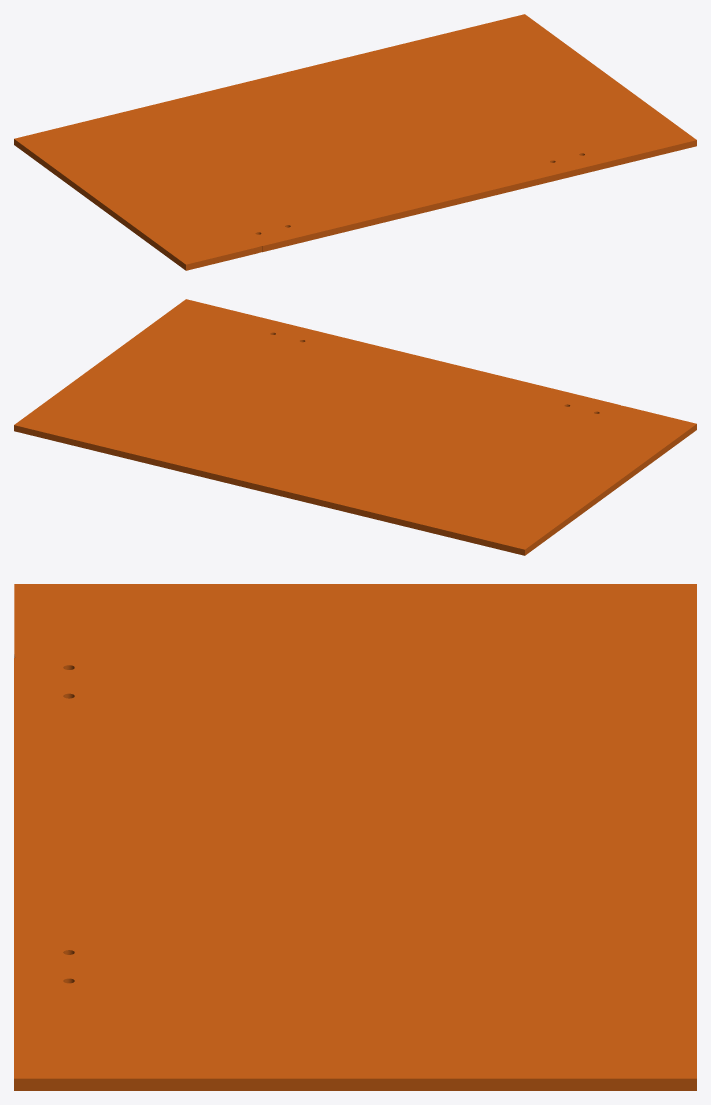
The model's file is NyxBoxV1_NyxRoyalLitterBot v106_FrontAccessPanel_1_LeftDoor_1_Body1.obj.
The picture shows the model from 3 angles, top to bottom: view 1: azimuth 30°, elevation 25°; view 2: azimuth 150°, elevation 25°; view 3: azimuth 270°, elevation 25°; orthographic projection. The views are drawn at different scales.
Visible parts, largest first — view 1: Body1; view 2: Body1; view 3: Body1.
Part boxes in pixels (x1,y1,x2,y2): Body1: (14,14,696,270); Body1: (14,299,696,555); Body1: (14,584,696,1090).
Size of the model in its own units: 521 by 6 by 304.
